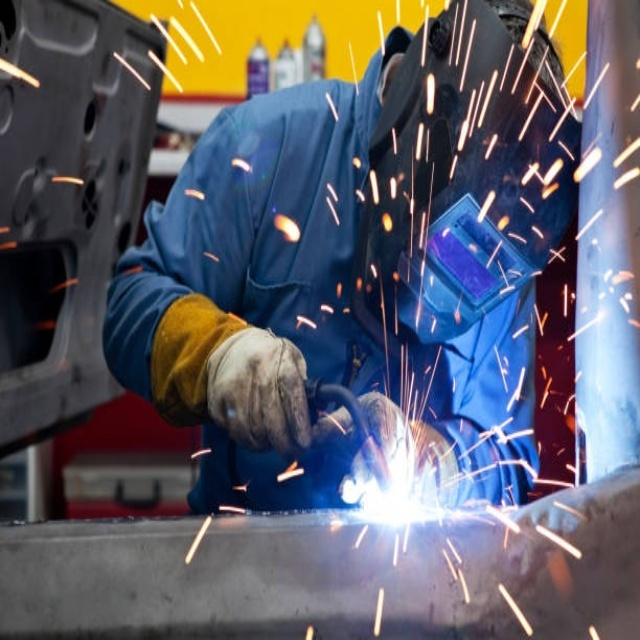Guantes: (145, 287, 307, 450), (308, 376, 460, 515)
